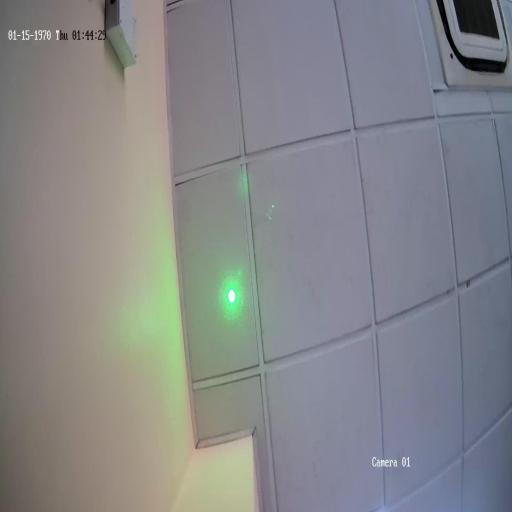laser: (217, 266, 244, 322)
